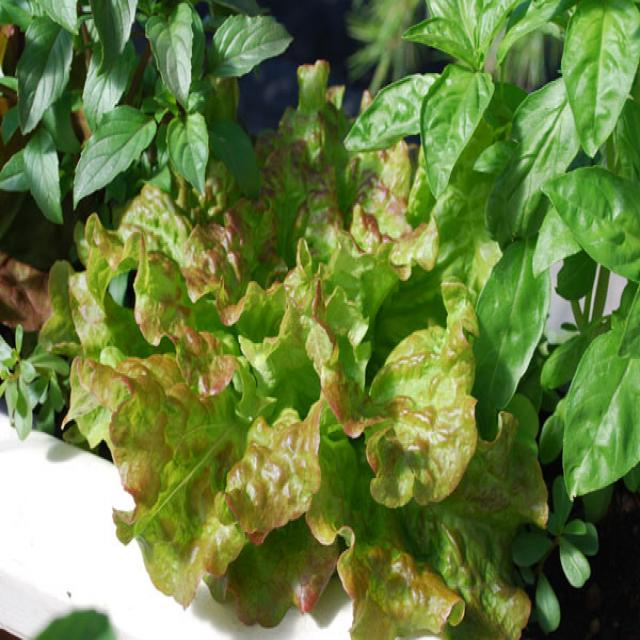lettuce: (65, 200, 463, 625)
